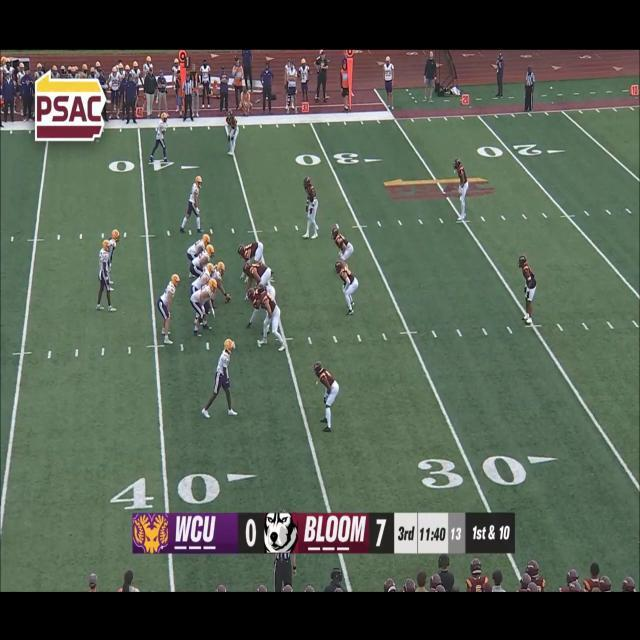football: (223, 292, 233, 305)
